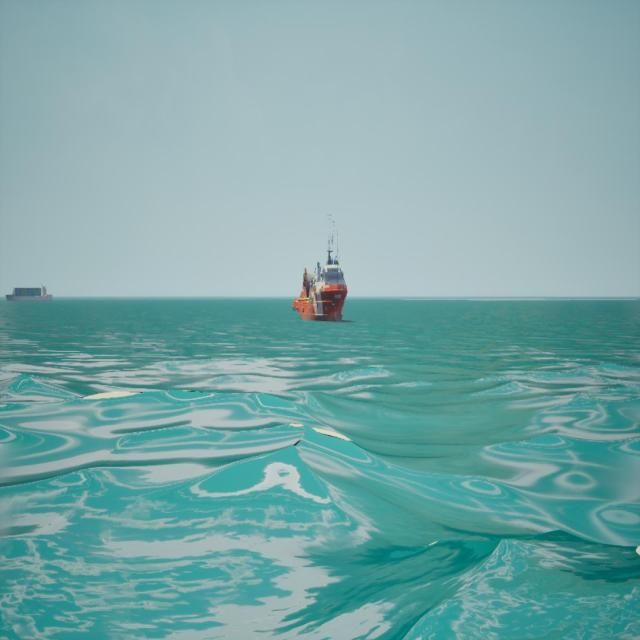tug boat: (295, 216, 350, 324)
